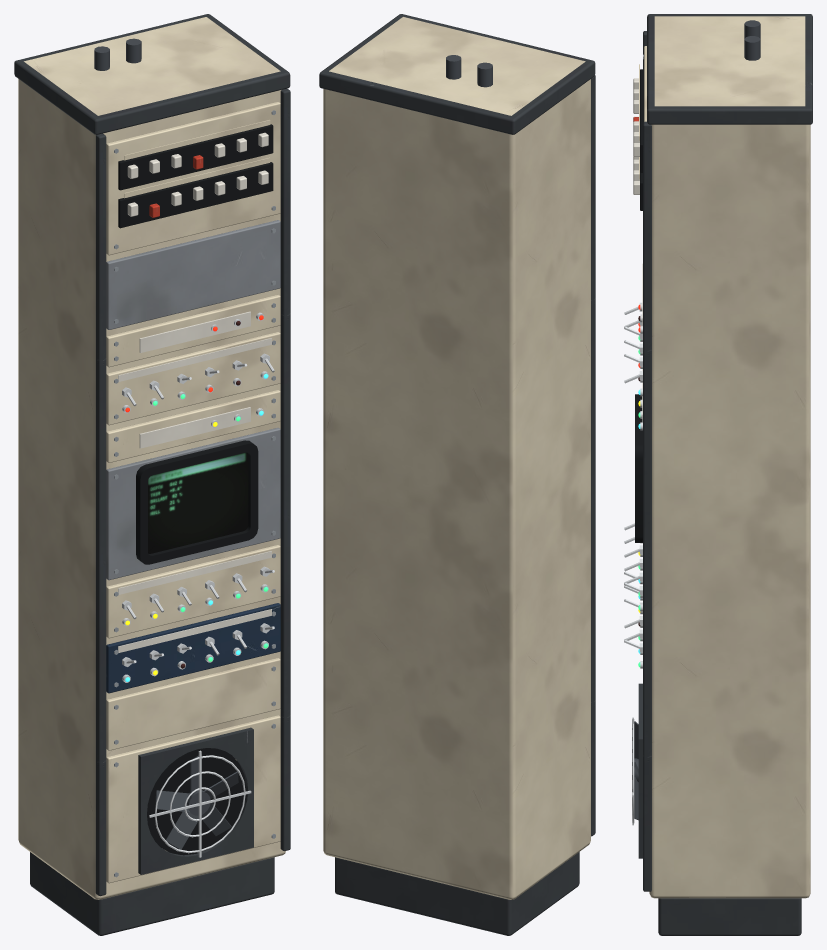
File: Rack_50_0.glb
The picture shows the model from 3 angles, left to right: view 1: azimuth 30°, elevation 25°; view 2: azimuth 150°, elevation 25°; view 3: azimuth 270°, elevation 25°; orthographic projection.
Parts seen in each view (by area): view 1: Rack_50_0_Body; view 2: Rack_50_0_Body; view 3: Rack_50_0_Body.
Part boxes in pixels (x1=…): Rack_50_0_Body: x1=14, y1=14, x2=290, y2=935; Rack_50_0_Body: x1=319, y1=14, x2=595, y2=935; Rack_50_0_Body: x1=624, y1=14, x2=812, y2=935.
Bounding box in the file's own units: 0.51 × 2.1 × 0.4216.
Materials: 16 (7 with a texture image).
